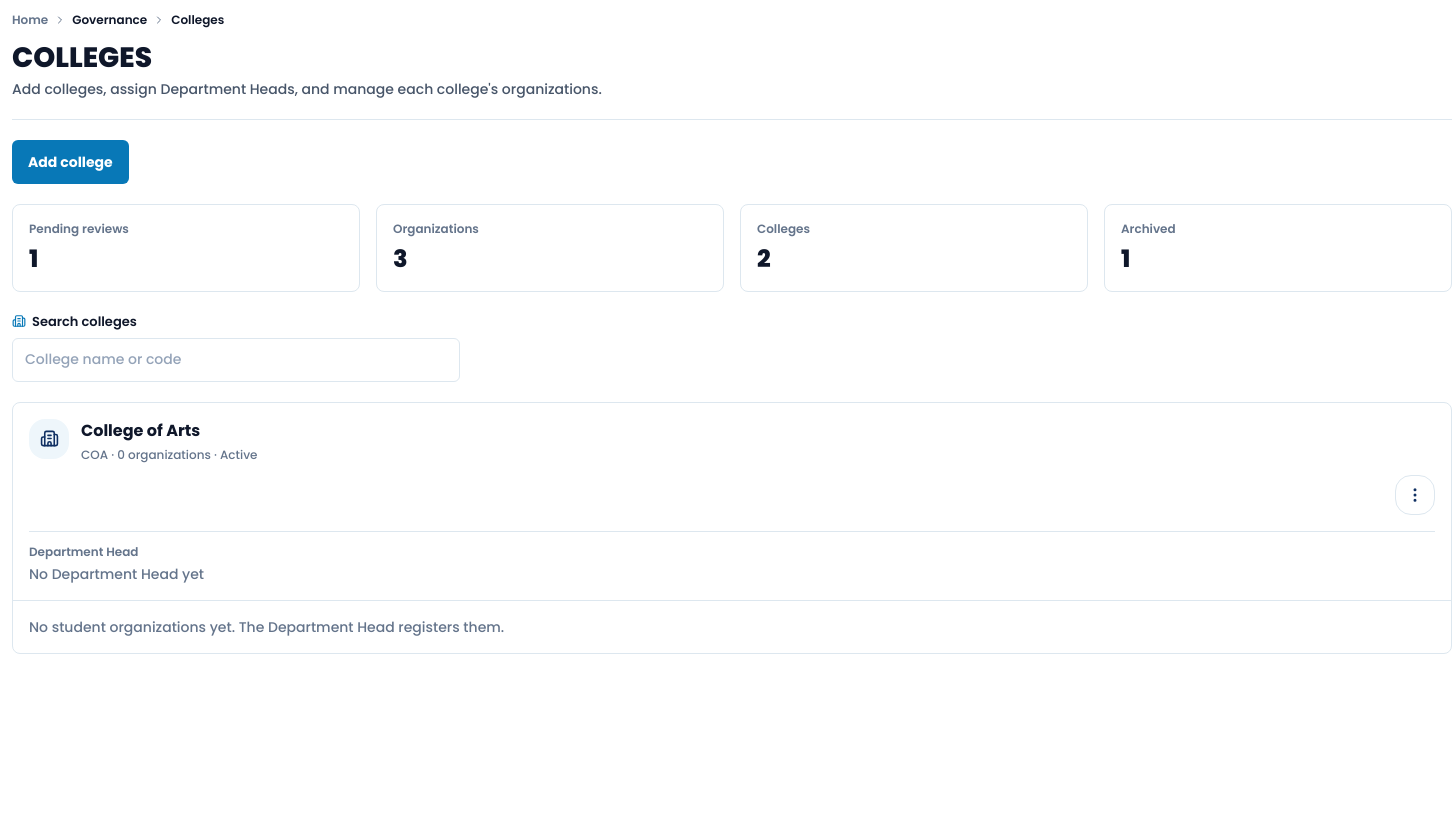
Test: SystemCollegesPage › offers college creation and management
The width and height of the screenshot is (1452, 822).
Expected: the heading "College of Arts" is shown, [81,418,200,442]
Expected: the text "COA · 0 organizations · Active" is shown, [81,446,258,462]
What coordinates should you click on to do the following:
click the button named "Actions for "
I would click on:
 (1415, 494)
Its box is [1395,474,1435,514].
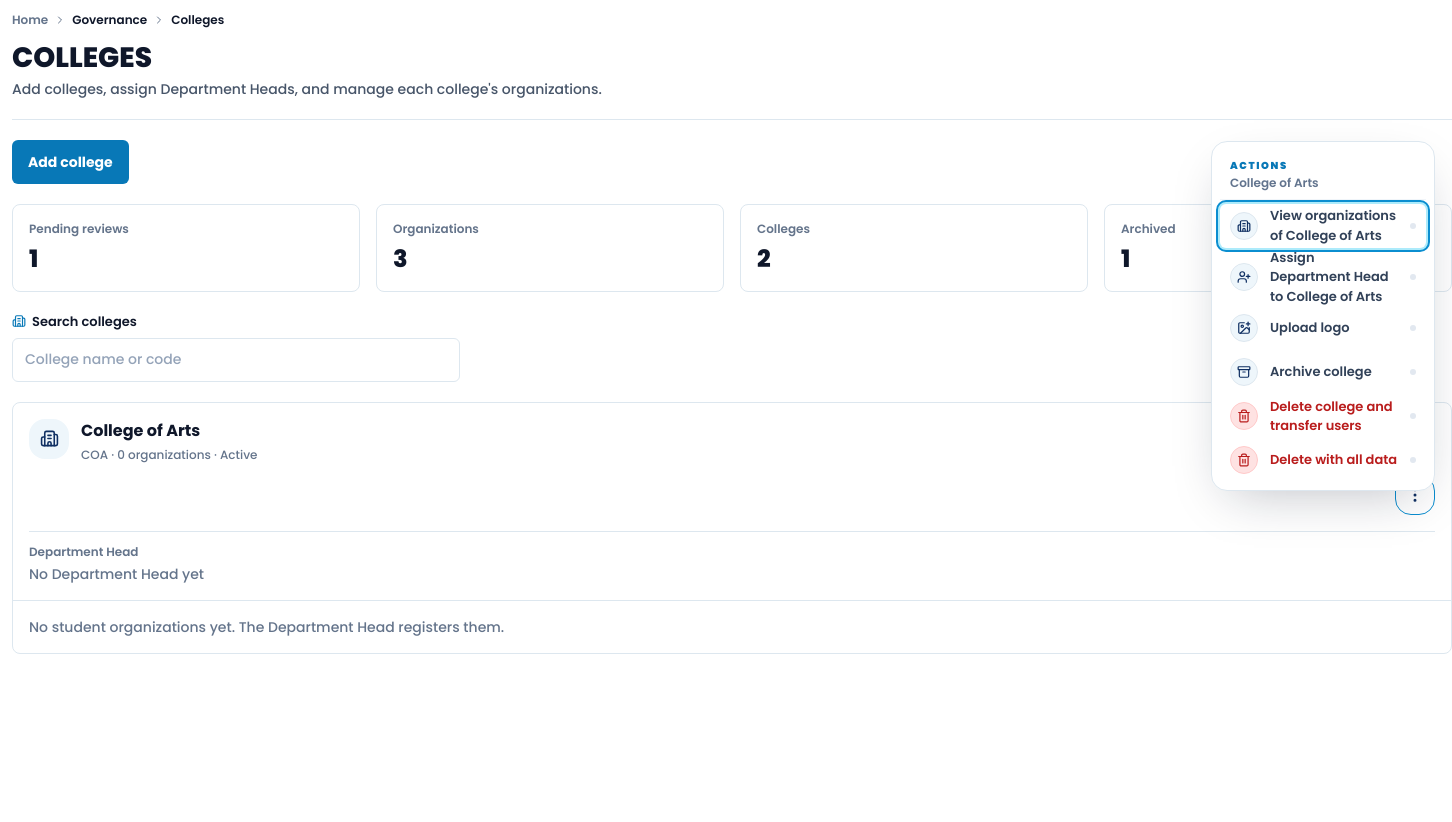
Expected: the text "Add colleges, assign Department Heads, and manage each college's organizations." is shown, [12,79,602,99]
Expected: the menu item "Delete college and transfer users" is shown, [1220,394,1426,438]
